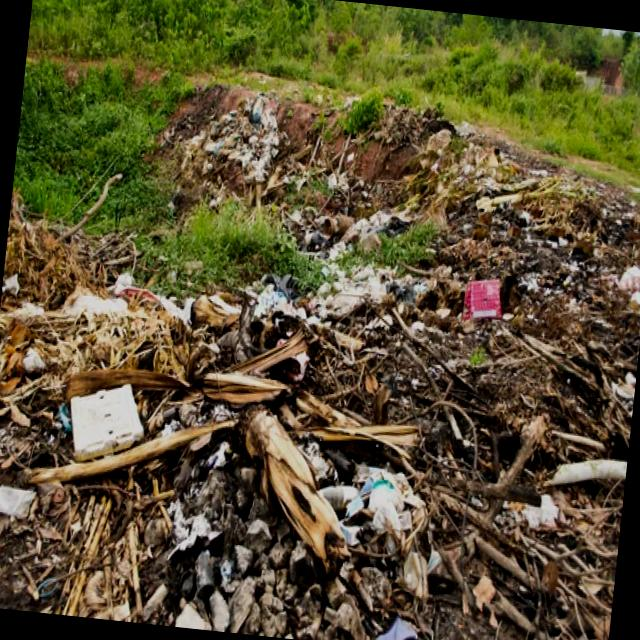garbage: (55, 105, 618, 640)
